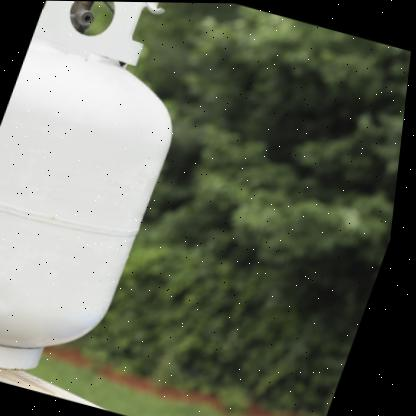gas-tank: (0, 0, 263, 414)
